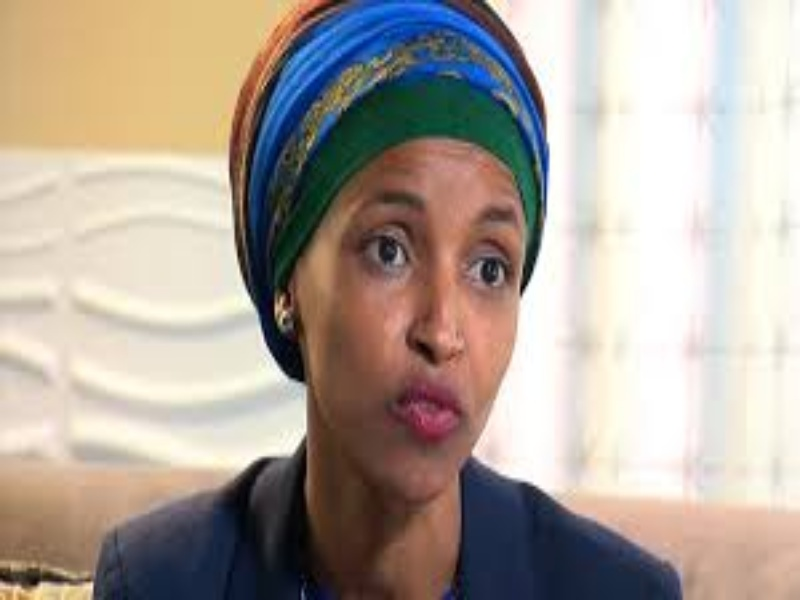face: (329, 185, 528, 458)
